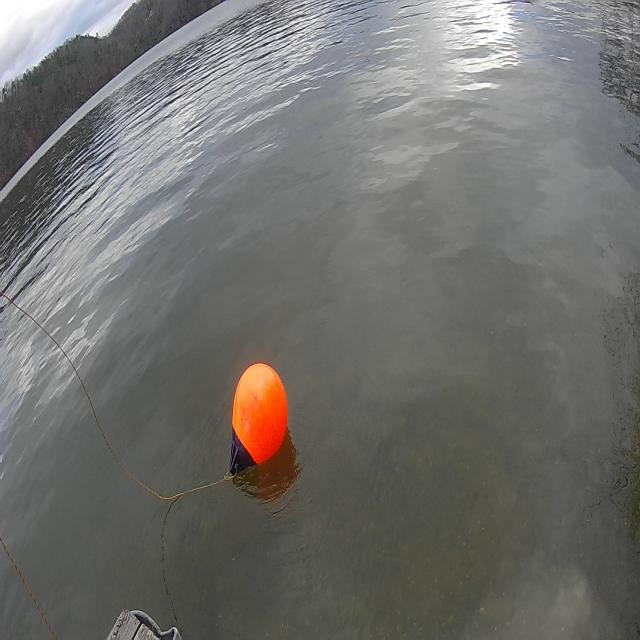Buoy: (231, 359, 289, 468)
